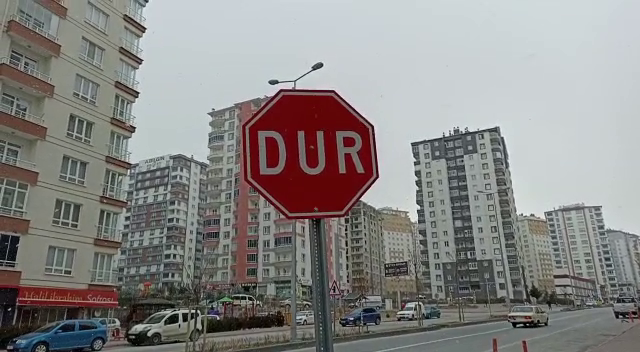stop: (239, 86, 385, 222)
